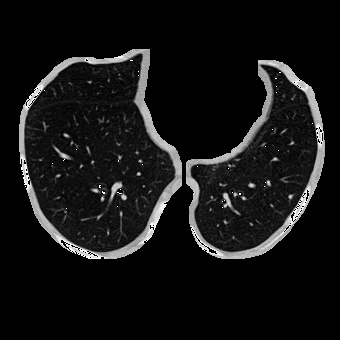PN: (288, 194, 292, 198)
